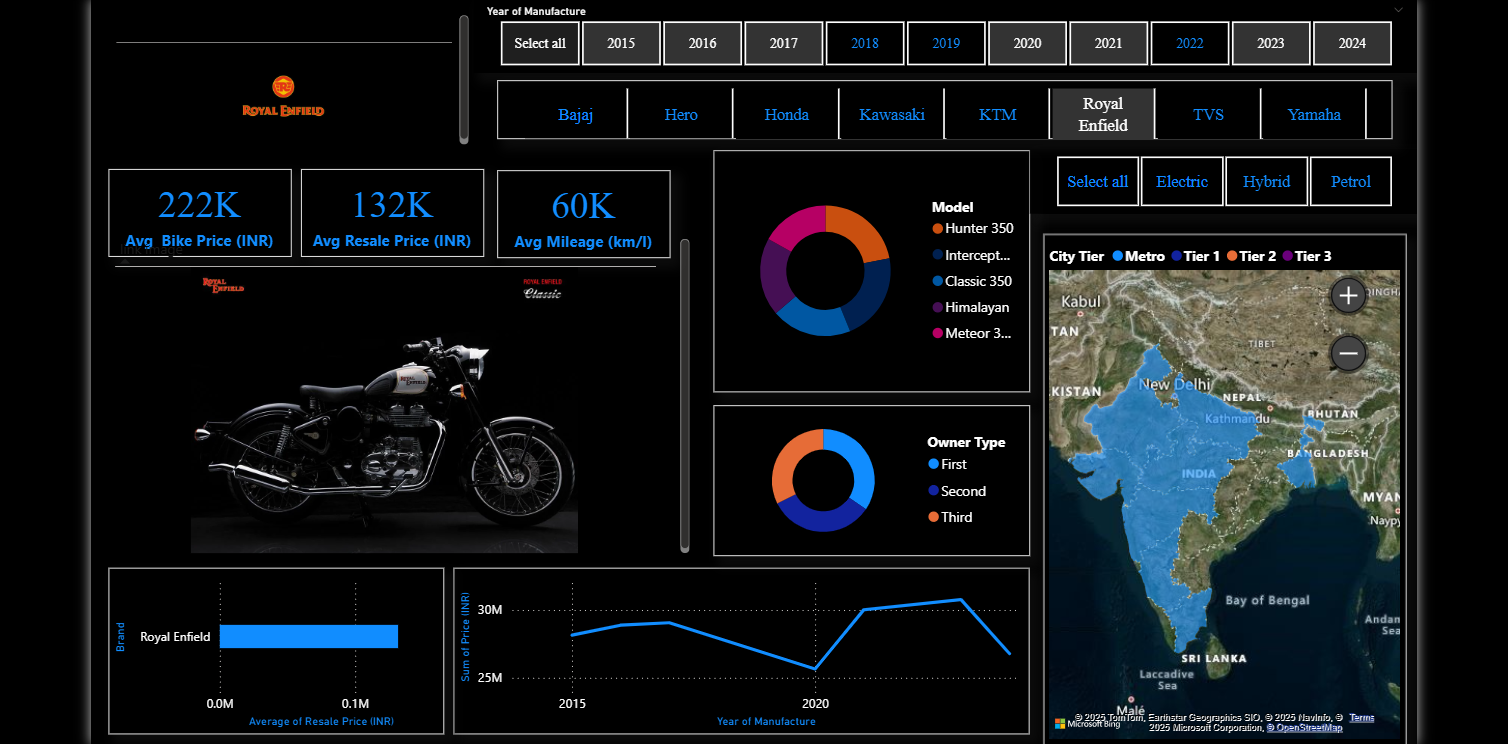

Layout of this report page (visuals, bound fields, positions):
{"tool":"powerbi","page":{"name":"Page 1","canvas":[1280,720],"ordinal":0},"visuals":[{"type":"card","fields":{"Values":["Avg(Sheet1.Price (INR))"]},"box":[16.7,164,176.5,84.8],"z":0},{"type":"card","fields":{"Values":["Avg(Sheet1.Resale Price (INR))"]},"box":[203,164,176.5,84.8],"z":1000},{"type":"card","fields":{"Values":["Sum(Sheet1.Mileage (km/l))"]},"box":[392,165.4,166.8,84.8],"z":2000},{"type":"lineChart","fields":{"Category":["Sheet1.Year of Manufacture"],"Y":["Sum(Sheet1.Price (INR))"]},"box":[349.9,548.9,556.2,160.5],"z":3000},{"type":"barChart","fields":{"Category":["Sheet1.Brand"],"Y":["Avg(Sheet1.Resale Price (INR))"]},"box":[16.5,548.9,323.8,160.5],"z":4000},{"type":"donutChart","fields":{"Category":["Sheet1.Model"],"Y":["CountNonNull(Sheet1.Model)"]},"box":[600.5,146,305.8,233.5],"z":5000},{"type":"donutChart","fields":{"Category":["Sheet1.Owner Type"],"Y":["CountNonNull(Sheet1.Model)"]},"box":[600.5,392,305.8,146],"z":6000},{"type":"slicer","fields":{"Values":["Sheet1.Fuel Type"]},"box":[906.3,144.6,373.9,62.6],"z":7000},{"type":"filledMap","fields":{"Category":["Sheet1.State"],"Series":["Sheet1.City Tier"]},"box":[918.9,226.6,350.3,493.5],"z":8000},{"type":"slicer","fields":{"Values":["Sheet1.Year of Manufacture"]},"box":[369.8,0,910.5,70.9],"z":9000},{"type":"tableEx","fields":{"Values":["Table.link image"]},"box":[16.7,226.6,565.8,312.8],"z":10000},{"type":"slicer","fields":{"Values":["Table.Brand"]},"box":[392.1,78.4,863.8,56.7],"z":11000},{"type":"tableEx","fields":{"Values":["loko (2).logo2"]},"box":[18.1,11.1,351.7,134.8],"z":12000}]}

Visuals, with their boxes in screenshot pixels (x1, y1, x2, y2):
card - Avg(Sheet1.Price (INR)): 88/161/274/250
card - Avg(Sheet1.Resale Price (INR)): 285/161/471/250
card - Sum(Sheet1.Mileage (km/l)): 484/163/660/252
lineChart - Sheet1.Year of Manufacture x Sum(Sheet1.Price (INR)): 439/567/1026/736
barChart - Sheet1.Brand x Avg(Sheet1.Resale Price (INR)): 88/567/429/736
donutChart - Sheet1.Model x CountNonNull(Sheet1.Model): 704/142/1026/388
donutChart - Sheet1.Owner Type x CountNonNull(Sheet1.Model): 704/401/1026/555
slicer - Sheet1.Fuel Type: 1026/141/1420/207
filledMap - Sheet1.State x Sheet1.City Tier: 1039/227/1408/743
slicer - Sheet1.Year of Manufacture: 460/0/1420/63
tableEx - Table.link image: 88/227/685/557
slicer - Table.Brand: 484/71/1394/131
tableEx - loko (2).logo2: 90/0/460/142
